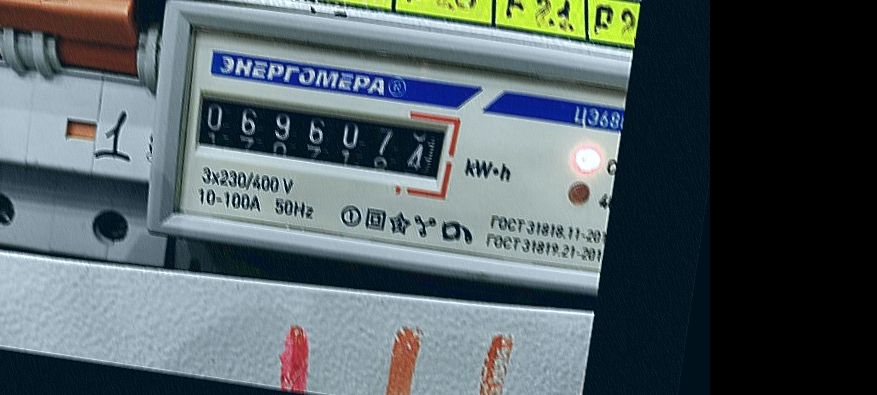0: (202, 100, 225, 131), (337, 119, 360, 148)
4: (402, 141, 424, 171)
6: (304, 114, 326, 144), (236, 106, 257, 135)
7: (371, 124, 394, 156)
9: (269, 111, 291, 141)
screen: (176, 74, 465, 201)
